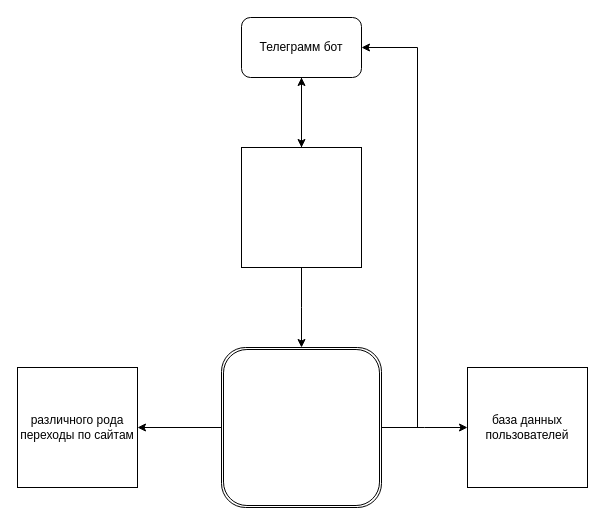
Image size: 605x525. Some labels were removed from this diagram. The shapes that lost their labels are listed below. From the top down, each one's box as (x1, y1, x2, y2) in pixels, then its label:
(240, 146, 362, 268): Сайт
(220, 346, 382, 508): Голосовой помощник
